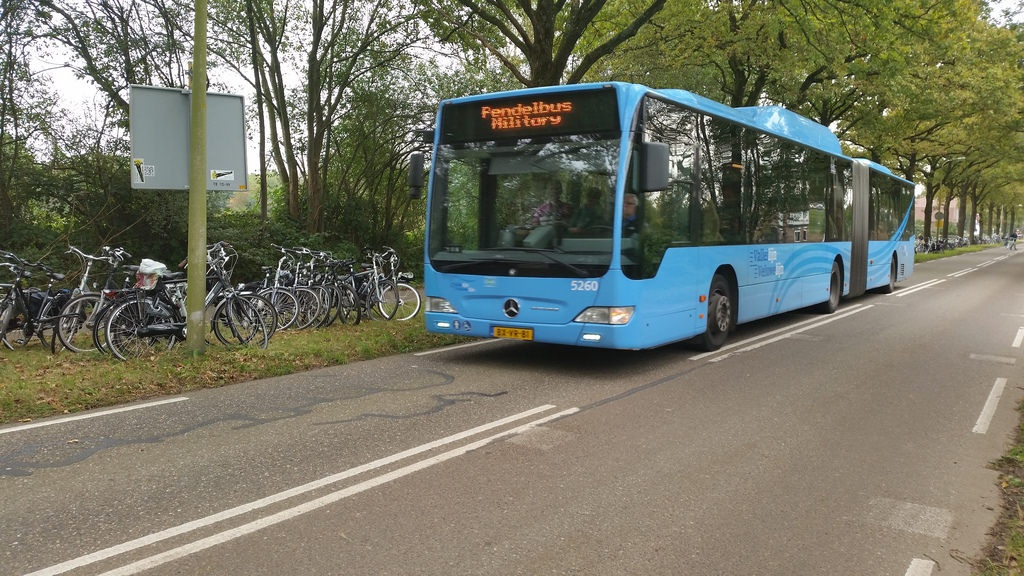bus: (420, 78, 917, 353)
